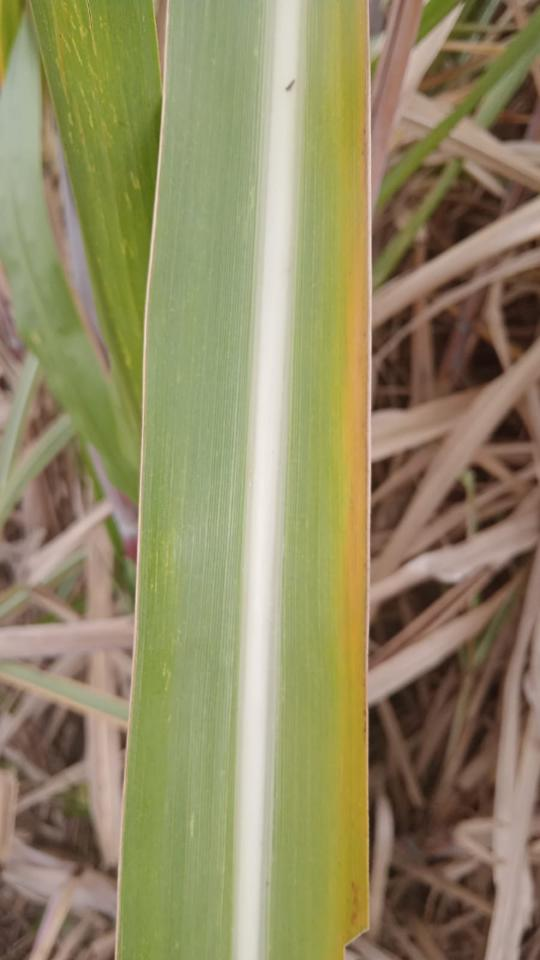Rust: (284, 79, 295, 93)
Yellow: (331, 8, 370, 958)
